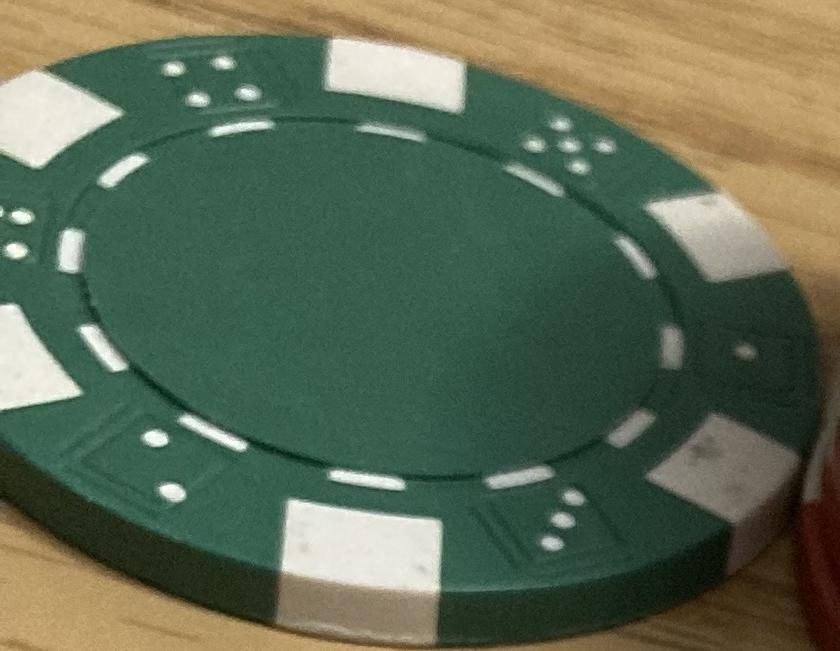Chip: (1, 1, 840, 651)
